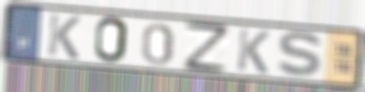0: (93, 16, 130, 65), (140, 22, 180, 66)
K: (234, 27, 273, 76), (45, 12, 83, 62)
S: (274, 30, 328, 80)
Z: (181, 19, 230, 75)
